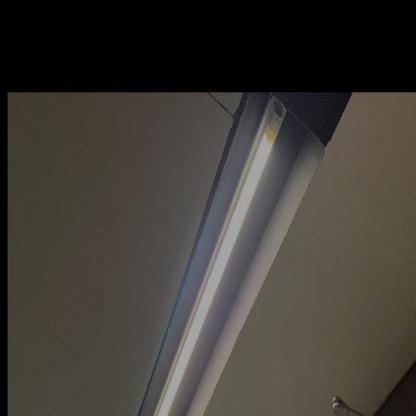light_on: (130, 94, 296, 414)
